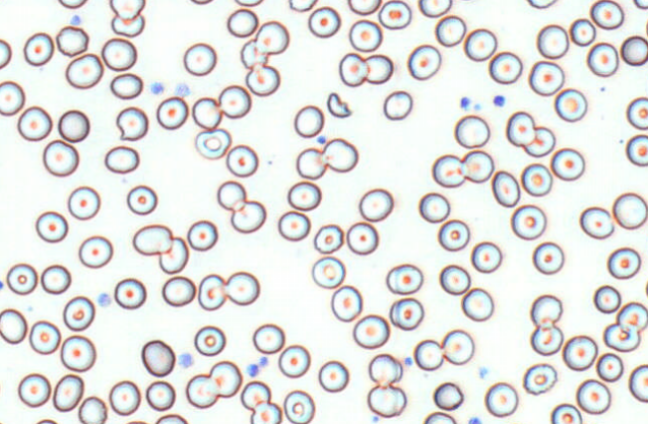PLT: (177, 351, 192, 369), (174, 82, 191, 97), (96, 293, 110, 309), (245, 363, 259, 378), (149, 81, 162, 95), (493, 95, 507, 108), (67, 15, 80, 26), (460, 97, 471, 109), (467, 416, 483, 424), (258, 355, 267, 366), (404, 356, 413, 365)
RBC: (65, 52, 103, 89), (42, 139, 79, 177), (352, 313, 390, 349), (60, 334, 96, 372), (612, 191, 647, 230), (366, 384, 406, 418), (132, 223, 173, 256), (562, 334, 598, 371), (140, 339, 175, 377), (528, 60, 564, 96), (575, 378, 611, 414), (510, 204, 546, 240), (321, 137, 358, 172), (406, 43, 441, 80), (17, 105, 52, 141), (440, 328, 474, 365), (453, 114, 490, 148), (52, 373, 84, 412), (358, 187, 393, 222), (230, 199, 266, 233), (101, 37, 137, 71), (484, 381, 518, 417), (209, 360, 242, 397), (330, 284, 362, 322), (385, 263, 423, 295), (185, 373, 219, 408), (254, 20, 289, 54), (431, 153, 465, 188), (224, 271, 259, 305), (579, 205, 614, 239), (550, 147, 585, 181), (17, 372, 51, 407), (182, 42, 217, 76), (78, 234, 113, 268), (108, 380, 141, 416), (536, 23, 569, 59), (62, 295, 95, 331), (586, 41, 619, 77), (194, 127, 231, 159), (158, 236, 189, 274), (460, 149, 494, 183), (460, 287, 494, 321), (488, 50, 522, 84), (463, 27, 497, 61), (367, 353, 402, 386), (218, 84, 251, 119), (389, 297, 424, 330), (522, 362, 557, 395), (606, 246, 641, 279), (67, 185, 100, 220), (554, 87, 587, 122), (490, 169, 520, 207), (345, 221, 378, 255), (225, 143, 258, 177), (348, 19, 382, 52), (57, 109, 90, 143), (155, 96, 188, 130), (277, 344, 310, 378), (28, 320, 61, 354), (245, 64, 280, 96), (161, 275, 196, 307), (520, 162, 552, 197), (603, 322, 640, 352), (197, 273, 227, 310), (530, 323, 563, 356), (437, 218, 470, 251), (35, 210, 68, 243), (311, 256, 345, 288), (55, 25, 89, 57), (532, 241, 564, 275), (307, 6, 341, 38), (283, 389, 315, 423), (23, 31, 54, 66), (505, 110, 535, 146), (522, 125, 555, 157), (434, 14, 466, 47), (470, 240, 502, 273), (113, 277, 146, 309), (191, 96, 222, 130), (287, 180, 321, 211), (293, 104, 324, 138), (338, 52, 368, 87), (104, 144, 139, 174), (530, 294, 562, 326), (295, 147, 327, 179), (418, 191, 450, 223), (186, 219, 218, 251), (277, 210, 310, 241), (318, 359, 349, 392), (193, 325, 226, 356), (252, 323, 285, 354), (6, 262, 37, 295), (589, 0, 624, 29), (439, 263, 470, 295), (0, 308, 27, 344), (240, 380, 271, 411), (313, 223, 344, 254), (126, 184, 157, 215), (40, 263, 71, 294), (413, 339, 443, 371), (378, 0, 411, 29), (216, 179, 246, 210), (616, 301, 647, 331), (145, 380, 175, 411), (226, 8, 258, 37), (0, 80, 25, 116), (382, 90, 412, 120), (364, 53, 393, 84), (432, 381, 463, 410), (110, 72, 143, 99), (240, 38, 268, 69), (620, 34, 647, 66), (595, 352, 623, 382), (77, 395, 107, 423), (593, 284, 621, 313), (568, 17, 596, 46), (628, 363, 647, 402), (625, 133, 647, 166), (109, 0, 145, 20), (626, 96, 647, 130), (250, 401, 282, 423), (550, 402, 582, 423), (418, 0, 452, 17), (347, 0, 381, 15), (423, 411, 456, 423), (0, 38, 12, 69), (288, 0, 318, 12), (154, 413, 188, 423), (526, 0, 557, 9), (57, 0, 87, 9), (233, 0, 263, 7), (633, 0, 648, 9), (189, 0, 214, 5), (35, 418, 58, 423), (123, 420, 149, 424)
Schistocyte: (115, 106, 149, 141), (109, 15, 144, 36), (327, 92, 353, 118)
